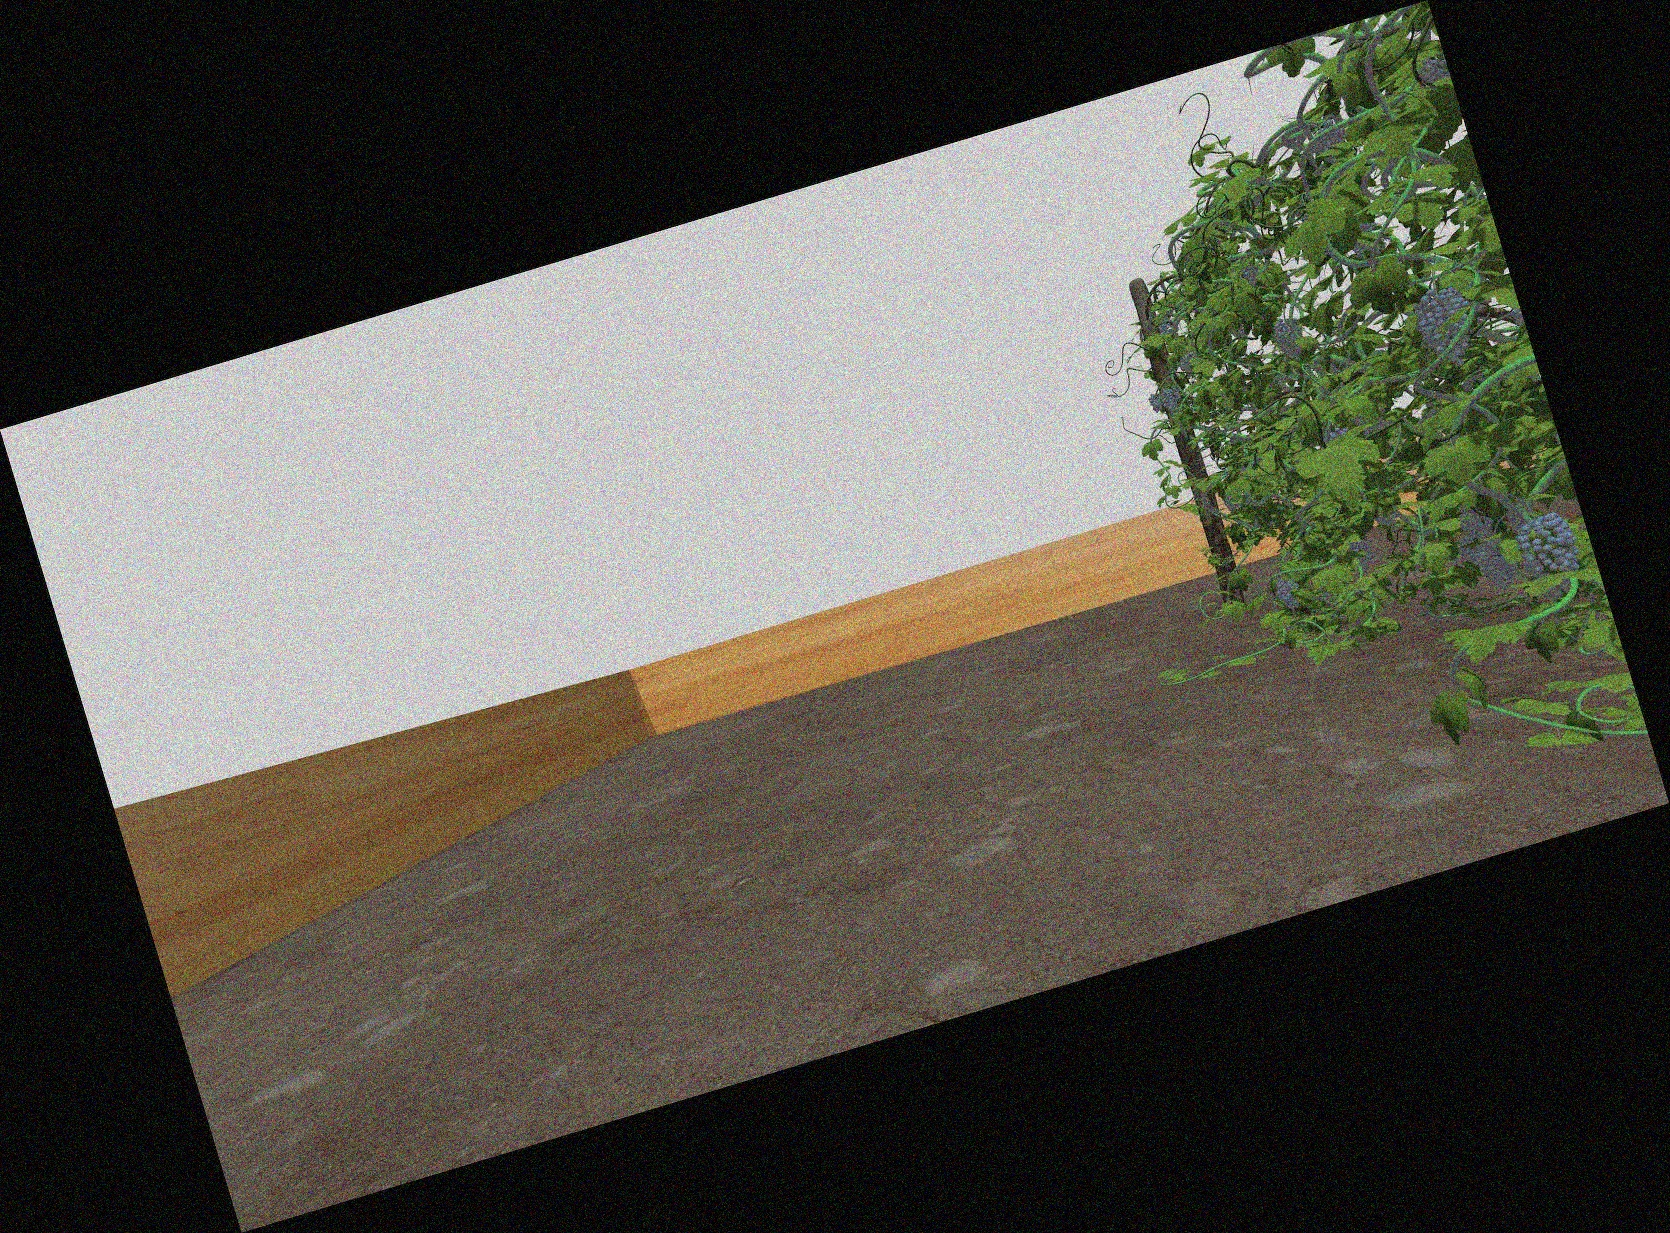grape: (1523, 515, 1579, 599), (1417, 288, 1474, 366), (1479, 538, 1514, 587), (1275, 316, 1304, 360), (1461, 506, 1490, 542), (1276, 576, 1300, 609), (1461, 535, 1479, 573), (1355, 538, 1373, 570), (1162, 389, 1181, 411), (1149, 393, 1163, 414)
